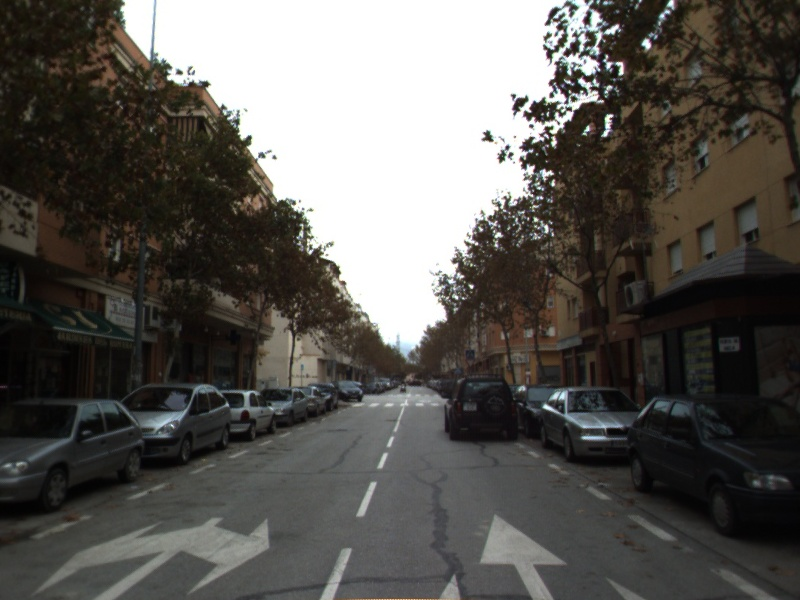STRAIGHT: (477, 510, 572, 600)
